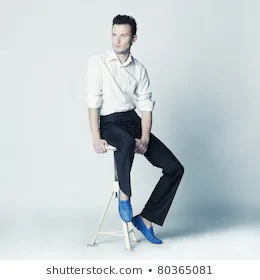F_shirt: (88, 46, 158, 113)
